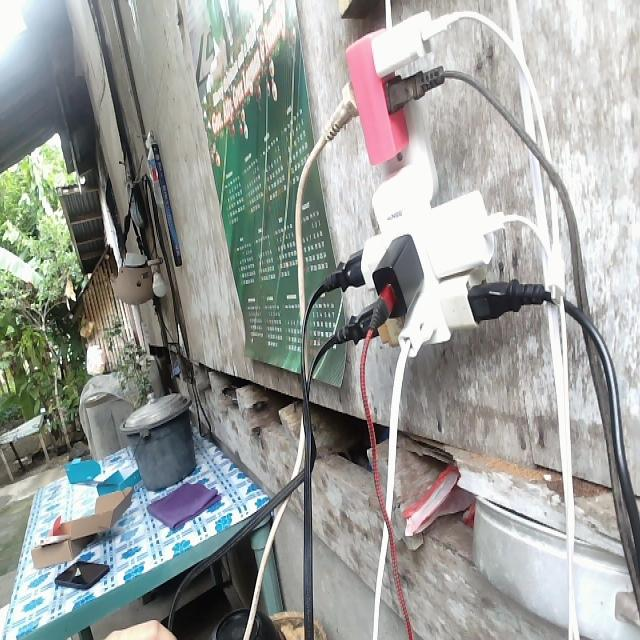-: (320, 9, 500, 364)
